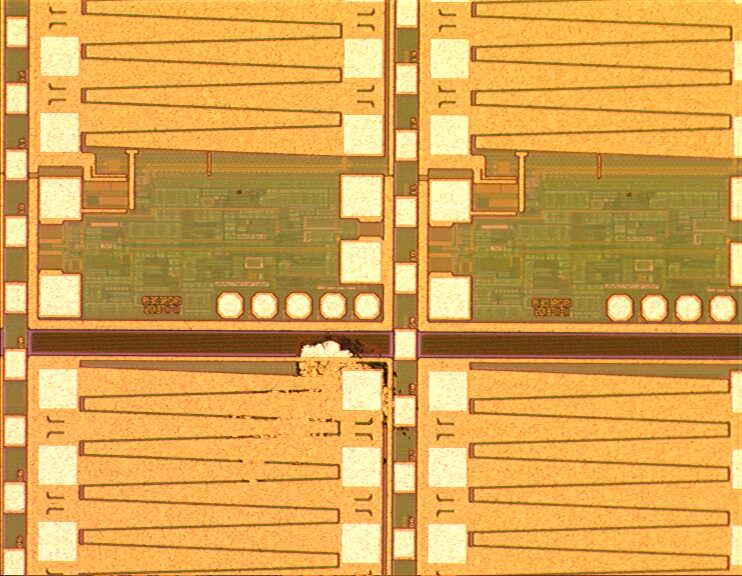BLOCK ETCH: (292, 332, 404, 442)
